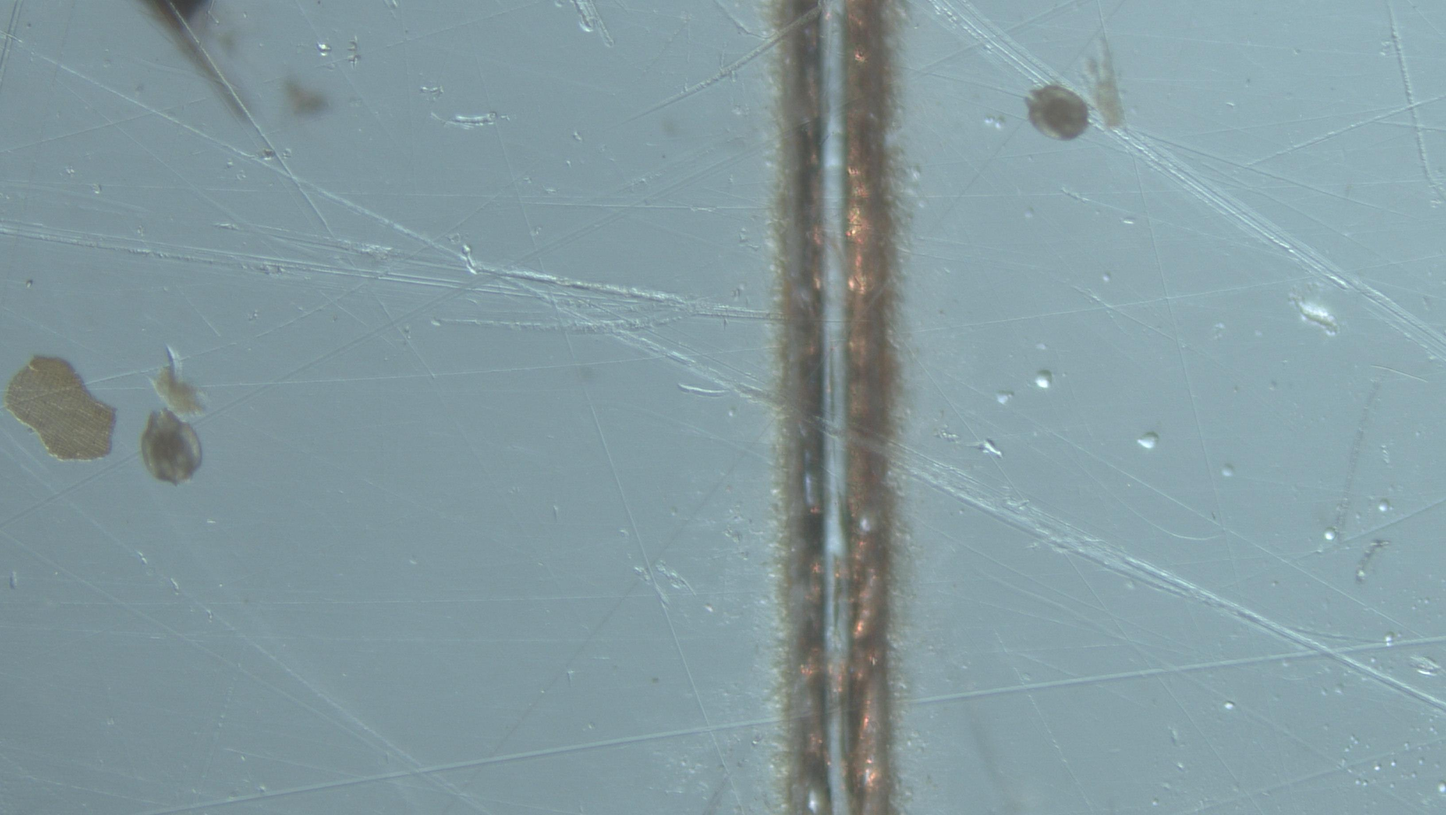live: (140, 409, 202, 485), (1026, 85, 1089, 141)
